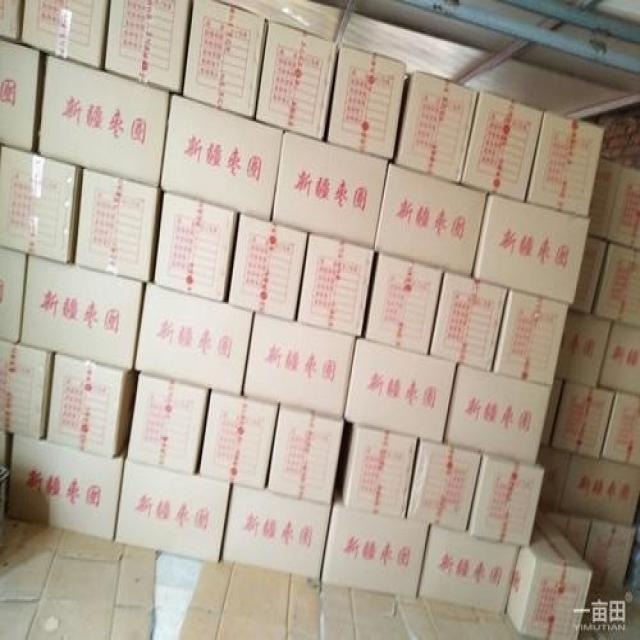box: (38, 55, 169, 188), (161, 94, 284, 222), (22, 254, 143, 372), (273, 130, 389, 249), (134, 283, 253, 398), (6, 435, 128, 543), (472, 195, 591, 305), (372, 164, 488, 276), (323, 480, 430, 601), (243, 312, 357, 422), (116, 459, 232, 565), (344, 338, 457, 444), (507, 509, 593, 640), (221, 485, 332, 584), (445, 364, 550, 464), (183, 0, 269, 119), (76, 167, 163, 283), (256, 19, 338, 142), (393, 70, 479, 184), (0, 145, 82, 263), (46, 353, 137, 459), (461, 90, 544, 201), (326, 44, 406, 159), (419, 526, 521, 616), (154, 193, 238, 302), (227, 215, 307, 321), (527, 109, 604, 217), (128, 374, 210, 474), (105, 0, 192, 94), (297, 234, 375, 338), (365, 253, 443, 355), (198, 391, 278, 490), (430, 271, 508, 372), (269, 406, 346, 505), (493, 290, 570, 387), (340, 425, 419, 519), (467, 454, 544, 548), (408, 440, 483, 532), (22, 0, 109, 70), (561, 454, 640, 526), (0, 341, 54, 439), (0, 38, 45, 152), (552, 381, 616, 459), (556, 311, 613, 389), (595, 242, 640, 328), (585, 519, 635, 592), (600, 321, 640, 396), (603, 391, 640, 466), (590, 155, 623, 239), (571, 237, 607, 314), (608, 166, 640, 251), (0, 247, 27, 343), (541, 509, 591, 560), (539, 447, 571, 509), (541, 377, 564, 447)
